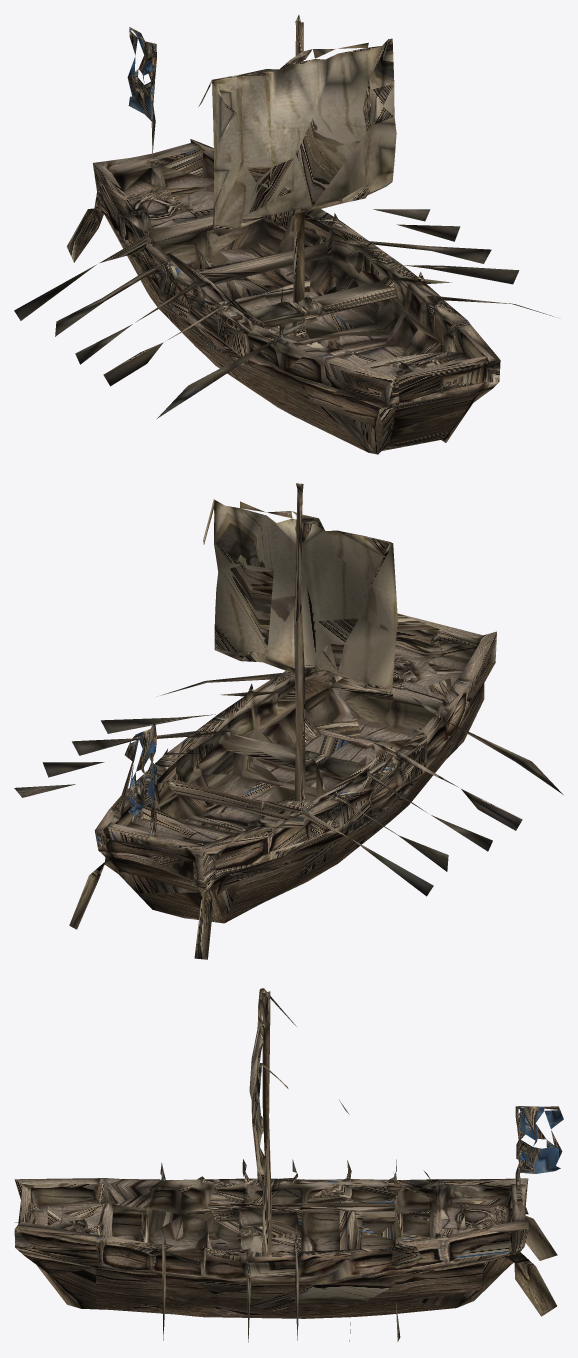
File: hyeopseon_lod1.glb
3 views of the same model, one above another, from view 1: azimuth 30°, elevation 25°; view 2: azimuth 150°, elevation 25°; view 3: azimuth 270°, elevation 25° (orthographic). The views are drawn at different scales.
Parts seen in each view (by area): view 1: tripo_node_e2dd134a-16b5-422e-bf98-9b0521ddb406; view 2: tripo_node_e2dd134a-16b5-422e-bf98-9b0521ddb406; view 3: tripo_node_e2dd134a-16b5-422e-bf98-9b0521ddb406.
Boxes of the visible parts, x1,y1,x2,y2 form: tripo_node_e2dd134a-16b5-422e-bf98-9b0521ddb406: (14, 15, 553, 454); tripo_node_e2dd134a-16b5-422e-bf98-9b0521ddb406: (14, 483, 563, 959); tripo_node_e2dd134a-16b5-422e-bf98-9b0521ddb406: (14, 988, 563, 1342).
Bounding box in the file's own units: 0.7327 × 0.5872 × 0.9637.
1 material, 1 textured.
